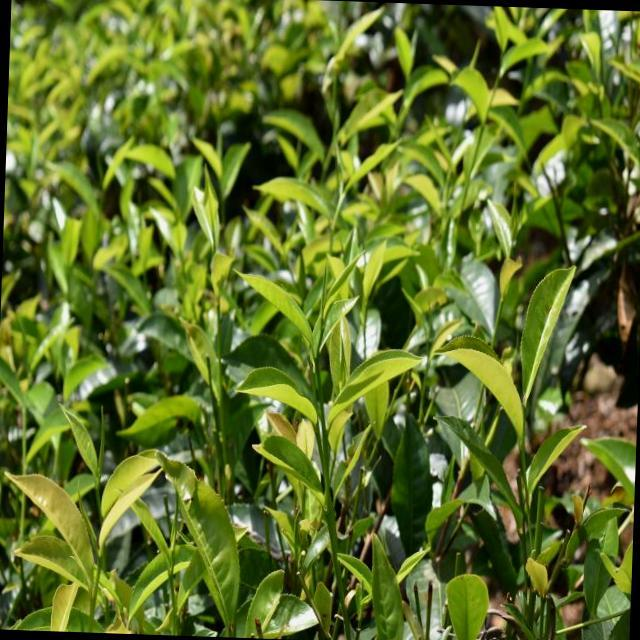Stem: (98, 557, 102, 569), (95, 480, 99, 491), (170, 572, 173, 585), (315, 358, 318, 364)
